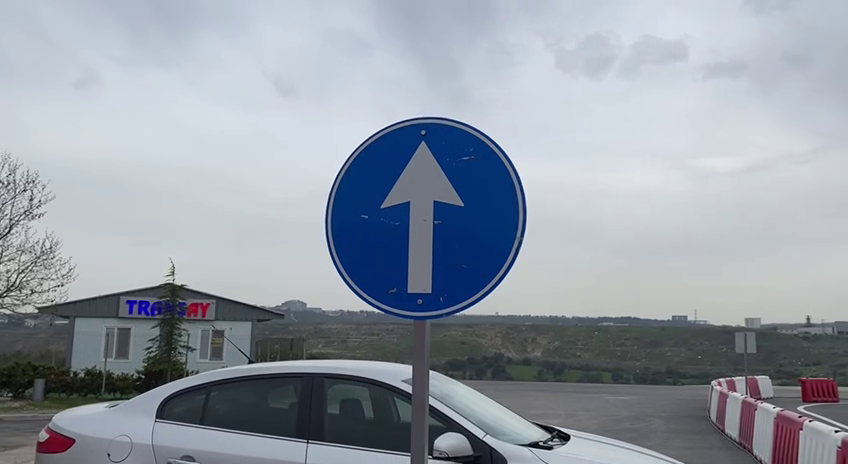forward: (317, 110, 533, 327)
